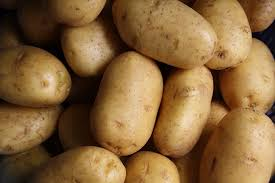potato: (93, 47, 163, 154), (111, 2, 218, 66), (206, 108, 274, 183)
